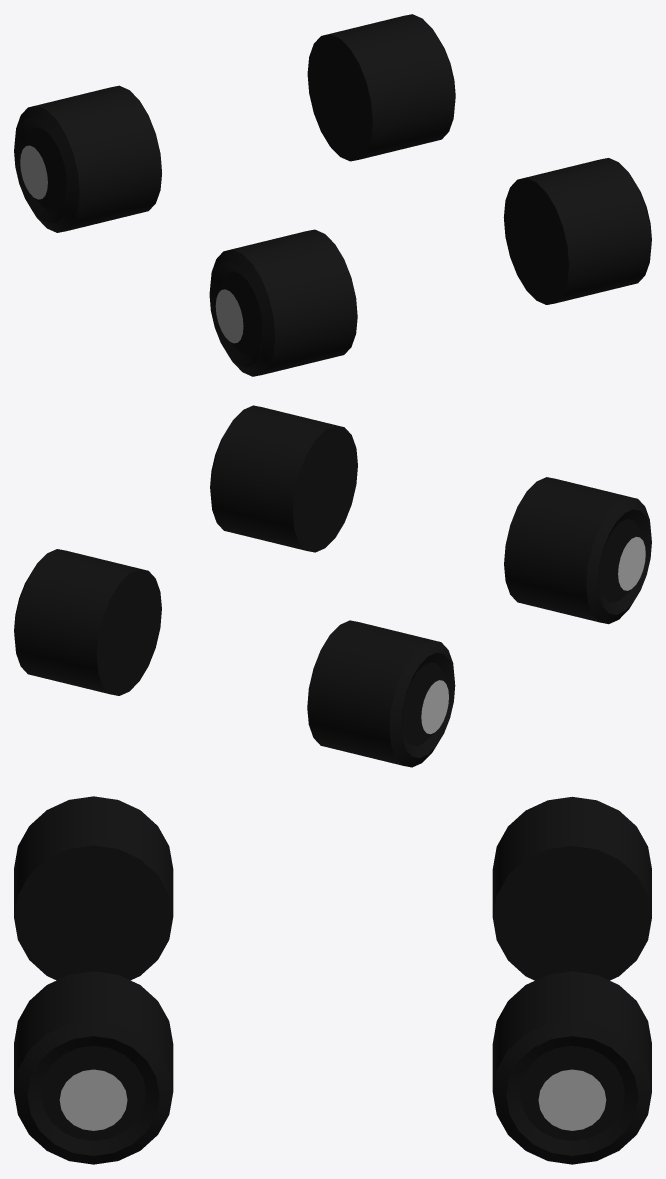
File: VINTAGE-WHEELS-8nROFC64.glb
3 renders of one model, top to bottom at view 1: azimuth 30°, elevation 25°; view 2: azimuth 150°, elevation 25°; view 3: azimuth 270°, elevation 25°, orthographic. The views are drawn at different scales.
Bounding box in the file's own units: 1.77 × 0.4982 × 2.
1 material, 1 textured.
